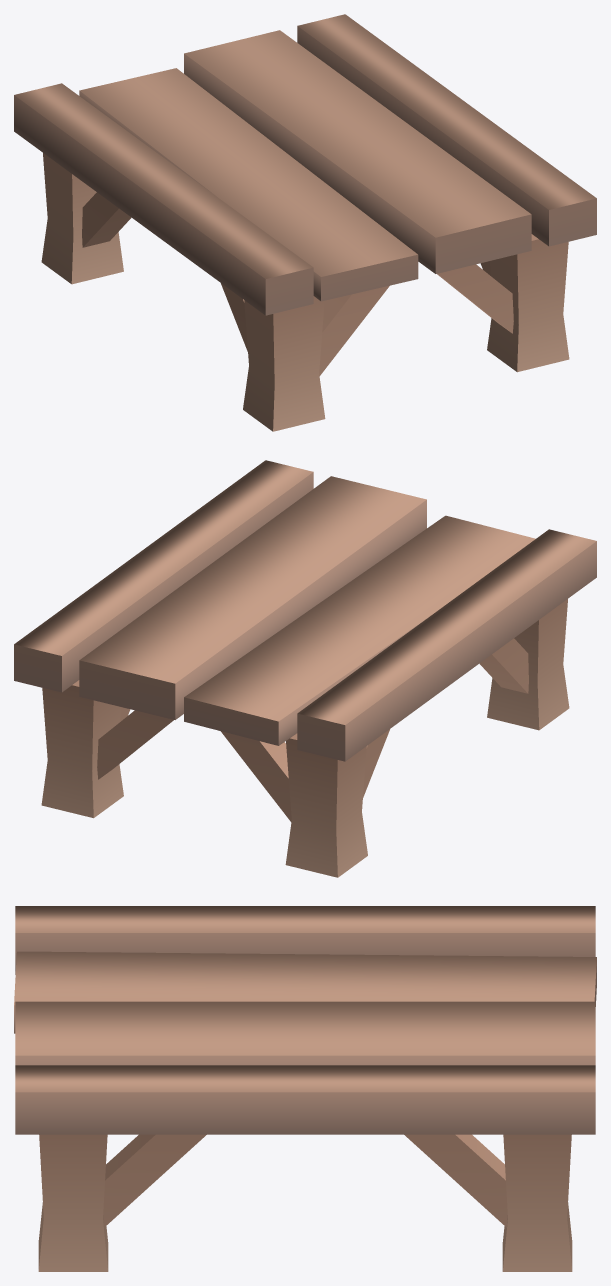
Rendered from structure-platform-small.glb.
3 renders of one model, top to bottom at view 1: azimuth 30°, elevation 25°; view 2: azimuth 150°, elevation 25°; view 3: azimuth 270°, elevation 25°, orthographic. The views are drawn at different scales.
Visible parts, largest first — view 1: structure-platform-small; view 2: structure-platform-small; view 3: structure-platform-small.
Boxes of the visible parts, left/top/right/bottom form: structure-platform-small: left=14, top=14, right=596, bottom=431; structure-platform-small: left=14, top=460, right=596, bottom=877; structure-platform-small: left=14, top=906, right=596, bottom=1271.
Size of the model in its own units: 1.9 by 0.9 by 2.51.
